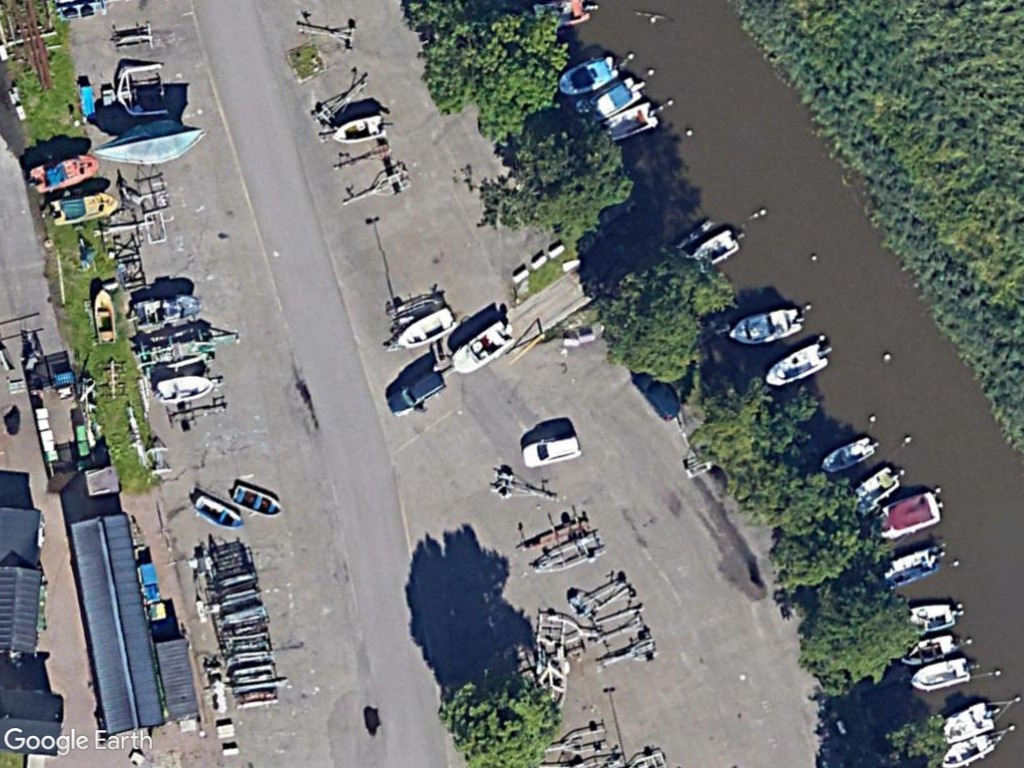boat: (94, 116, 207, 166), (445, 319, 518, 378), (389, 302, 461, 354), (722, 302, 805, 346), (759, 341, 831, 390), (26, 150, 100, 194), (44, 188, 122, 228), (555, 49, 619, 97), (902, 654, 974, 693), (186, 487, 247, 533), (814, 434, 876, 476), (227, 479, 286, 520), (936, 731, 999, 768), (328, 110, 388, 148), (151, 371, 215, 404), (88, 285, 121, 348)
car: (384, 363, 447, 415), (518, 431, 584, 471)
